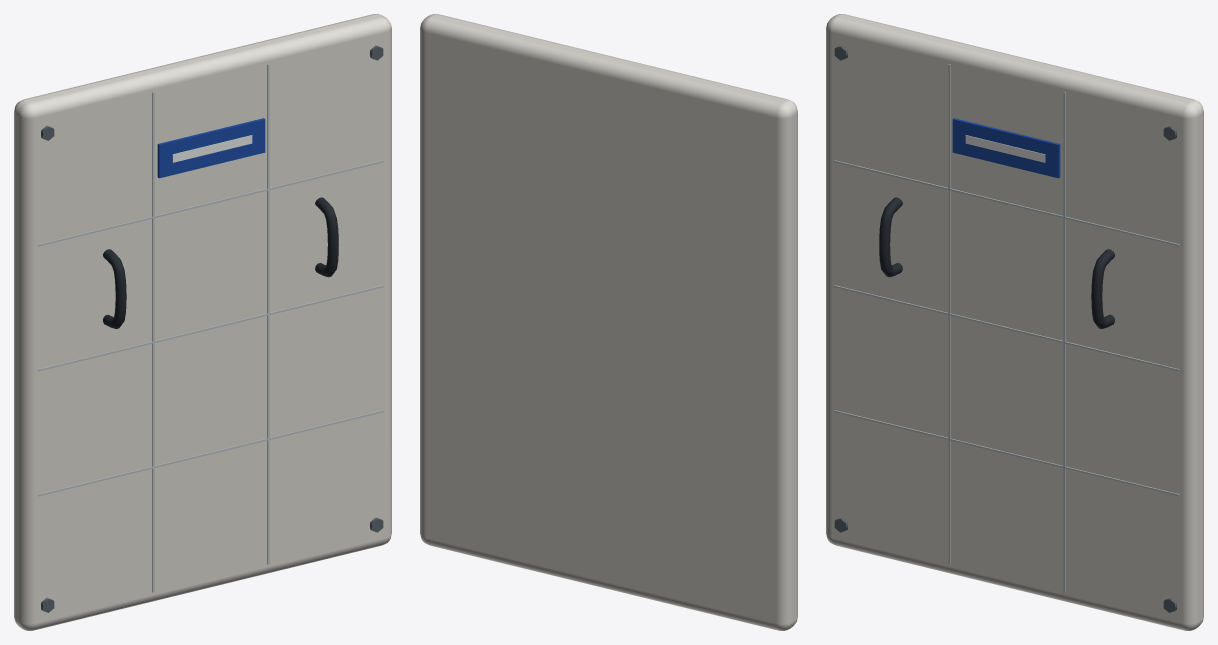
The model's file is poly-shield-panel.glb.
The picture shows the model from 3 angles, left to right: view 1: azimuth 30°, elevation 25°; view 2: azimuth 150°, elevation 25°; view 3: azimuth 330°, elevation 25°; orthographic projection.
Parts seen in each view (by area): view 1: poly-shield-panel-polyethylene, poly-shield-panel-panel-grey, poly-shield-panel-nasa-blue, handle_r-dark-polymer, handle_l-dark-polymer, poly-shield-panel-hull-white, bolt_holes-dark-steel; view 2: poly-shield-panel-polyethylene; view 3: poly-shield-panel-polyethylene, poly-shield-panel-panel-grey, poly-shield-panel-nasa-blue, handle_l-dark-polymer, handle_r-dark-polymer, poly-shield-panel-hull-white, bolt_holes-dark-steel.
Part boxes in pixels (x1=…): poly-shield-panel-polyethylene: x1=14, y1=14, x2=391, y2=630; poly-shield-panel-panel-grey: x1=38, y1=64, x2=383, y2=592; poly-shield-panel-nasa-blue: x1=157, y1=118, x2=265, y2=178; handle_r-dark-polymer: x1=315, y1=197, x2=338, y2=277; handle_l-dark-polymer: x1=103, y1=249, x2=126, y2=328; poly-shield-panel-hull-white: x1=172, y1=135, x2=252, y2=162; bolt_holes-dark-steel: x1=41, y1=45, x2=383, y2=612; poly-shield-panel-polyethylene: x1=420, y1=14, x2=797, y2=630; poly-shield-panel-polyethylene: x1=826, y1=14, x2=1203, y2=630; poly-shield-panel-panel-grey: x1=834, y1=64, x2=1179, y2=592; poly-shield-panel-nasa-blue: x1=952, y1=118, x2=1060, y2=178; handle_l-dark-polymer: x1=879, y1=197, x2=902, y2=277; handle_r-dark-polymer: x1=1091, y1=249, x2=1114, y2=328; poly-shield-panel-hull-white: x1=965, y1=135, x2=1045, y2=162; bolt_holes-dark-steel: x1=834, y1=45, x2=1176, y2=612.
Size of the model in its own units: 1.4 by 1.9 by 0.2252.
